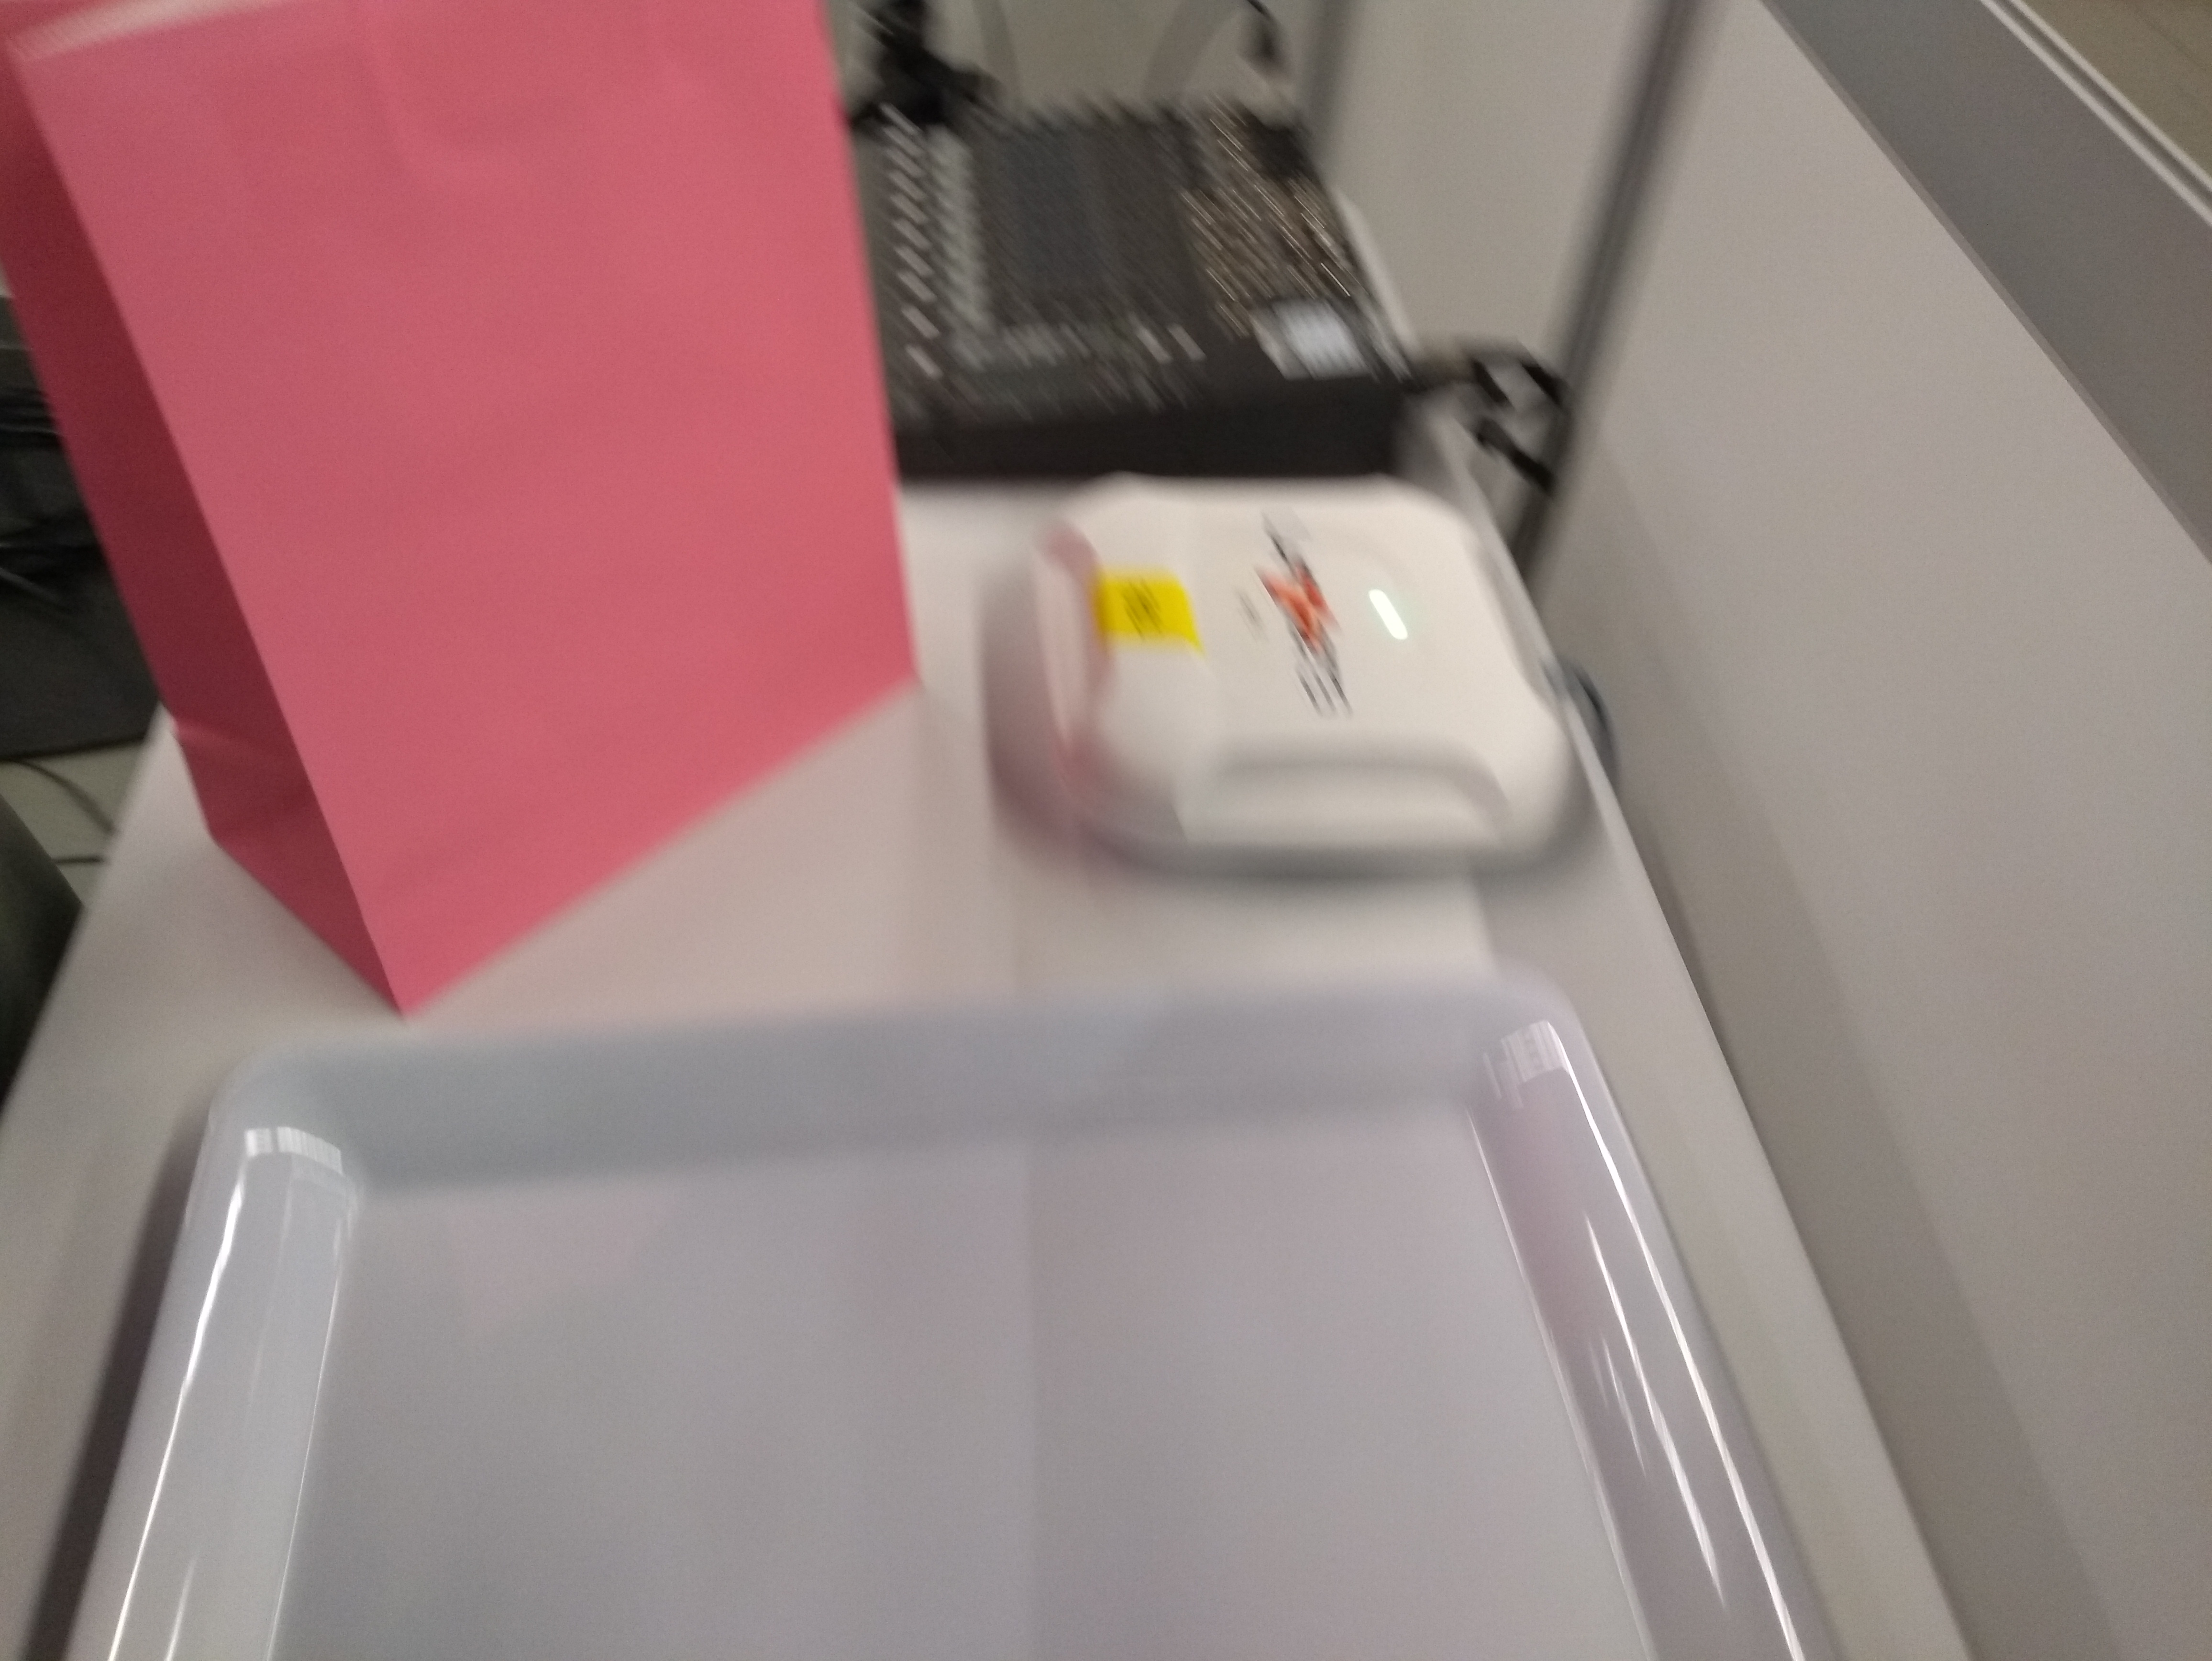help_me_carry_opl: (7, 3, 919, 1021)
tray: (49, 953, 1807, 1661)
